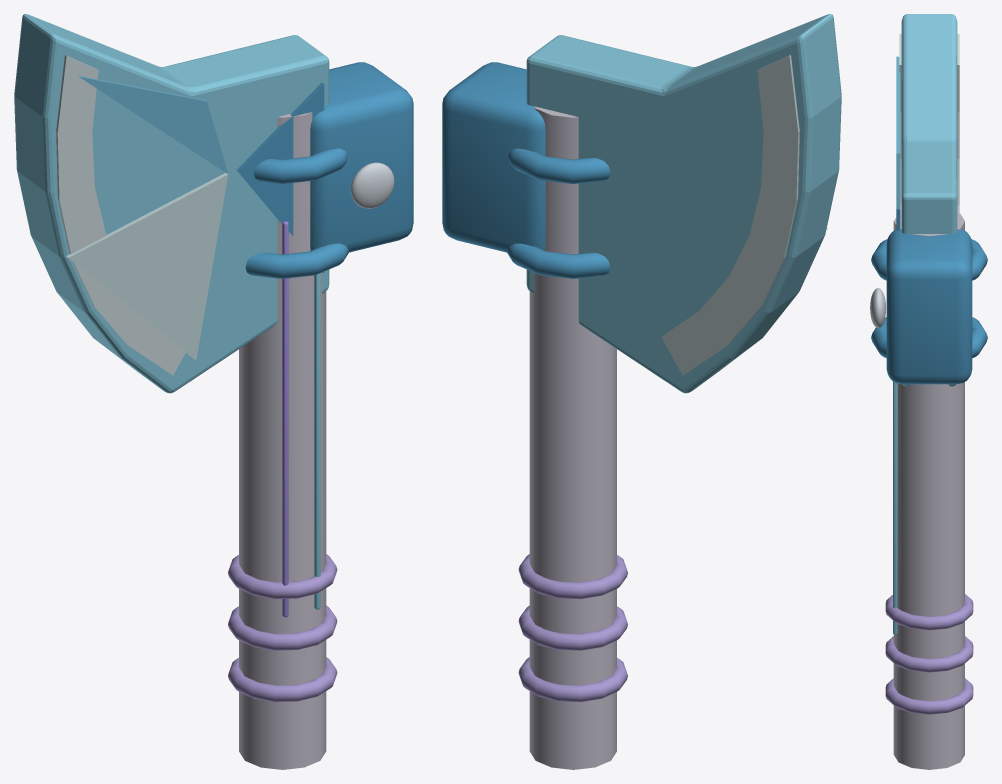
The model's file is axe4.glb.
3 renders of one model, left to right at view 1: azimuth 30°, elevation 25°; view 2: azimuth 150°, elevation 25°; view 3: azimuth 270°, elevation 25°, orthographic. The views are drawn at different scales.
Visible parts, largest first — view 1: _box.002, _box; view 2: _box.002, _box; view 3: _box.002, _box.
Boxes of the visible parts, bbox=[...] form: _box.002: bbox=[14, 14, 413, 393]; _box: bbox=[228, 112, 337, 769]; _box.002: bbox=[442, 14, 841, 393]; _box: bbox=[518, 106, 627, 769]; _box.002: bbox=[870, 14, 987, 386]; _box: bbox=[885, 212, 973, 769].
Bounding box in the file's own units: 0.446 × 0.9167 × 0.1521.
